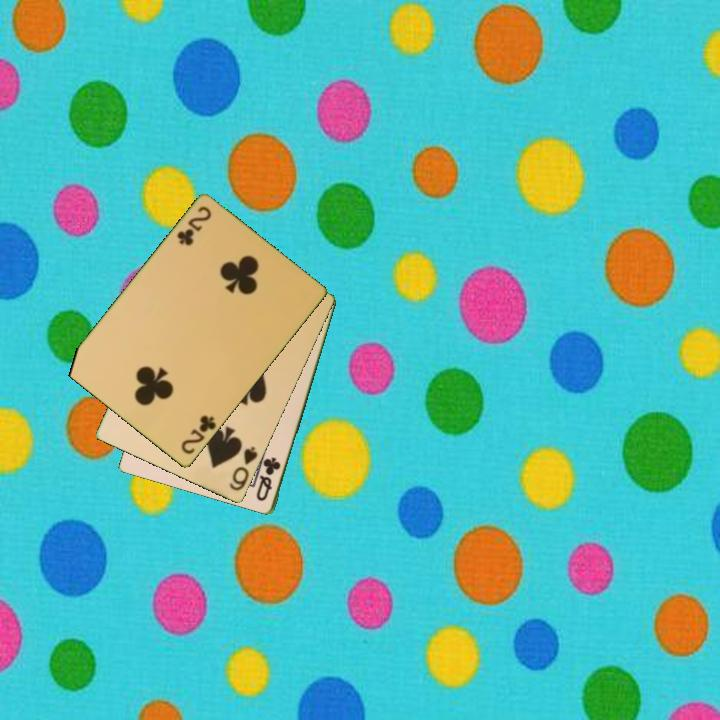2c: (177, 411, 219, 458), (173, 203, 214, 249)
6s: (226, 443, 261, 494)
Qc: (253, 453, 284, 505)
